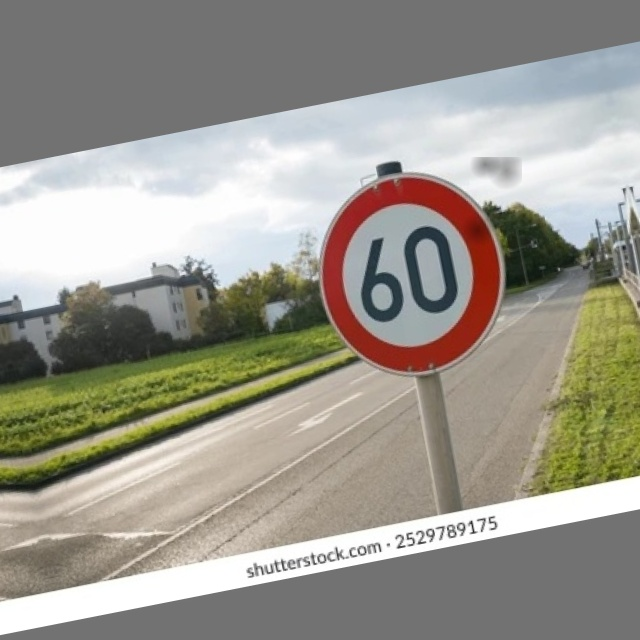Speed_Limit_60: (298, 157, 522, 388)
